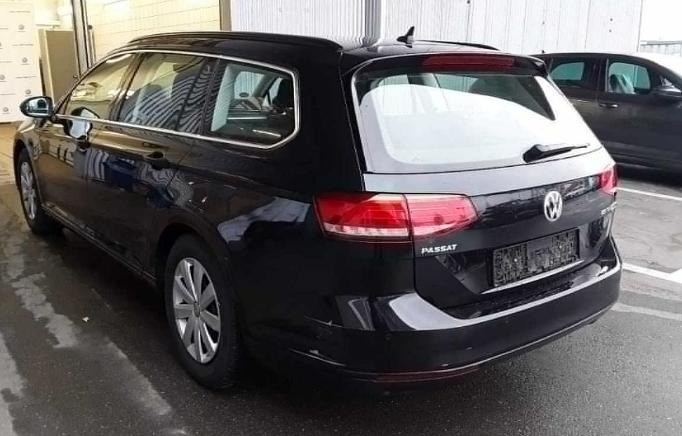Missing part: (493, 229, 583, 288)
Scratch: (375, 364, 479, 390), (289, 348, 345, 366), (305, 318, 343, 328), (316, 327, 332, 339), (384, 333, 393, 340), (439, 364, 449, 369), (465, 345, 473, 349)
